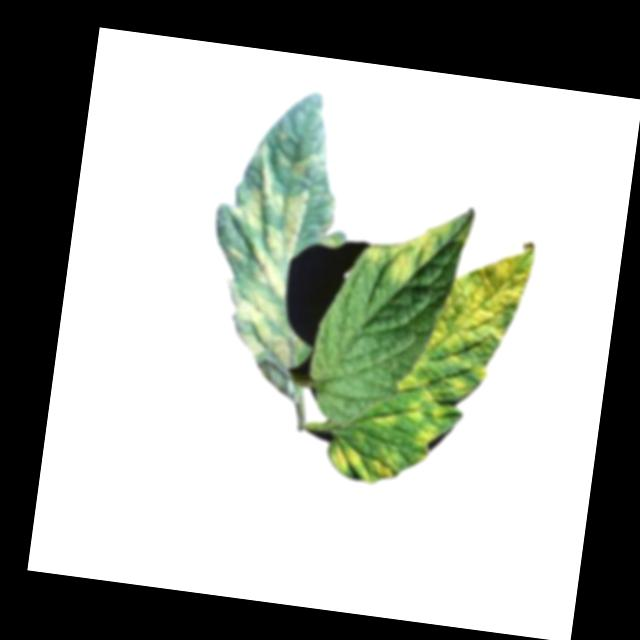Leaf_Mold: (194, 135, 326, 393), (427, 239, 540, 362), (364, 207, 454, 290), (392, 371, 446, 426), (444, 353, 492, 395), (323, 436, 364, 479), (369, 440, 408, 483), (416, 424, 446, 454)
